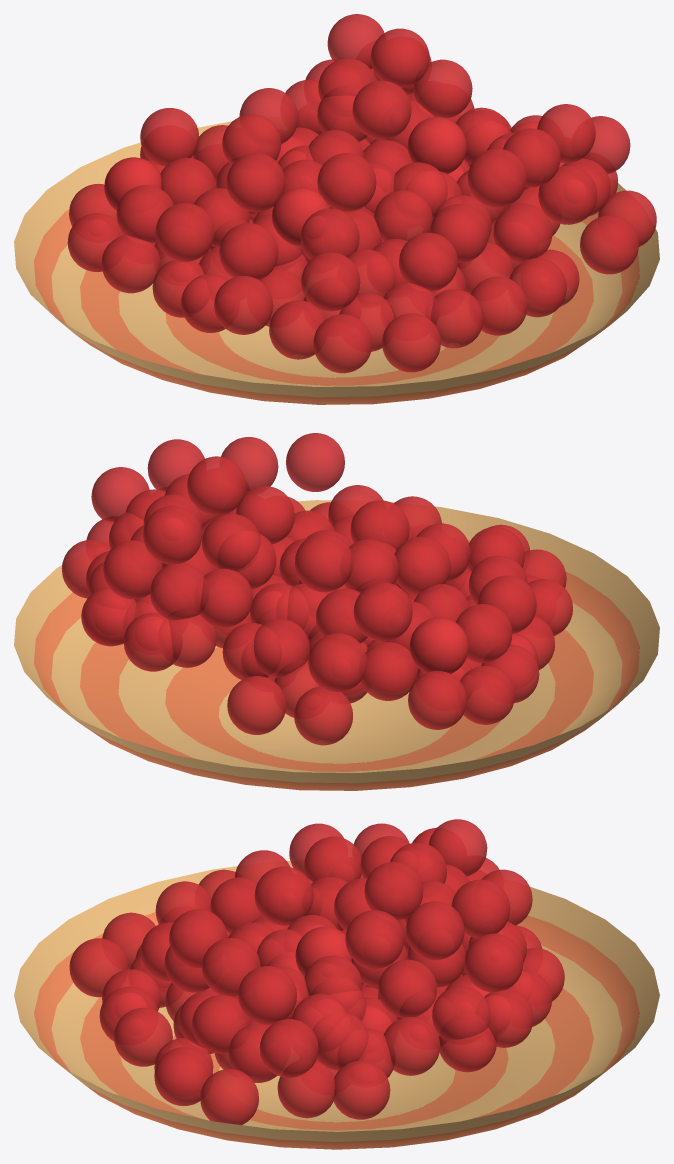
Rendered from Mutiara.glb.
The picture shows the model from 3 angles, top to bottom: view 1: azimuth 30°, elevation 25°; view 2: azimuth 150°, elevation 25°; view 3: azimuth 270°, elevation 25°; orthographic projection.
Visible parts, largest first — view 1: Plate Mutiara.001; view 2: Plate Mutiara.001; view 3: Plate Mutiara.001.
Part boxes in pixels (x1=…): Plate Mutiara.001: x1=14, y1=14, x2=659, y2=404; Plate Mutiara.001: x1=14, y1=433, x2=659, y2=790; Plate Mutiara.001: x1=14, y1=819, x2=659, y2=1149.
Bounding box in the file's own units: 7.22 × 3.32 × 7.22.
